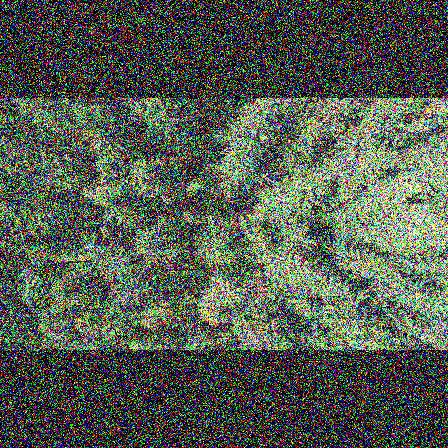Sick: (107, 273, 149, 309), (263, 180, 303, 217), (93, 246, 136, 280), (351, 120, 384, 150)
